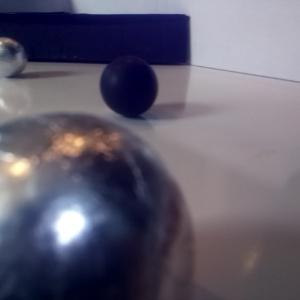zone: (1, 13, 190, 65)
